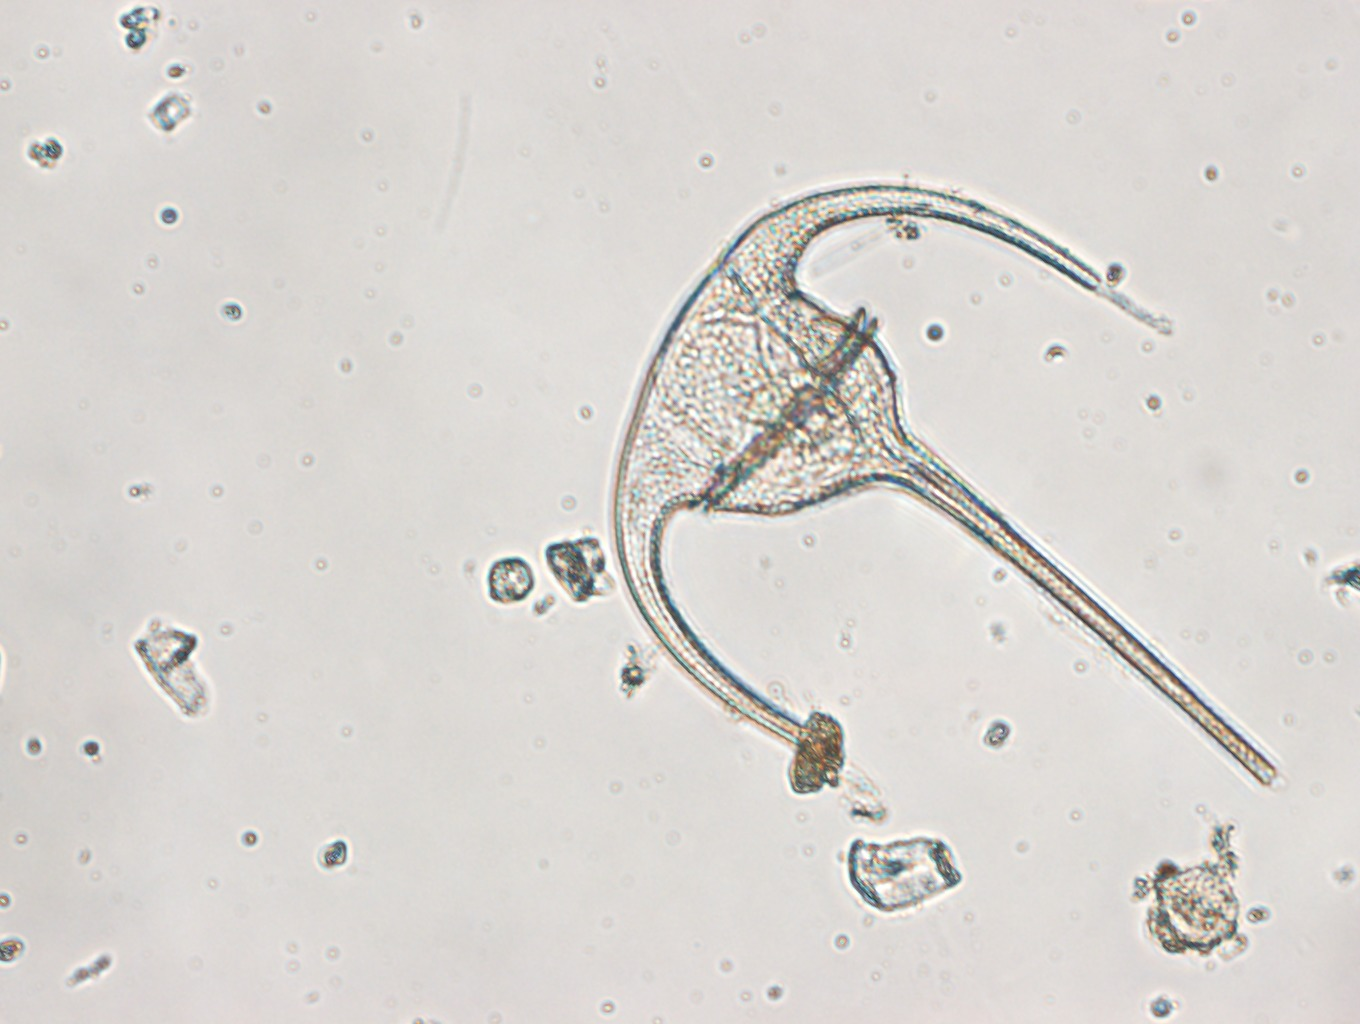ceratium tripos: (610, 182, 1282, 792)
